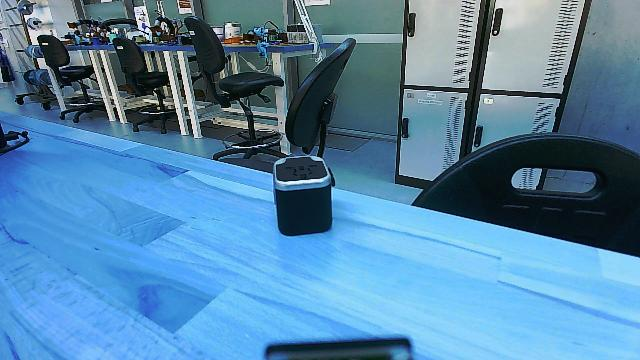adapter: (269, 155, 339, 239)
